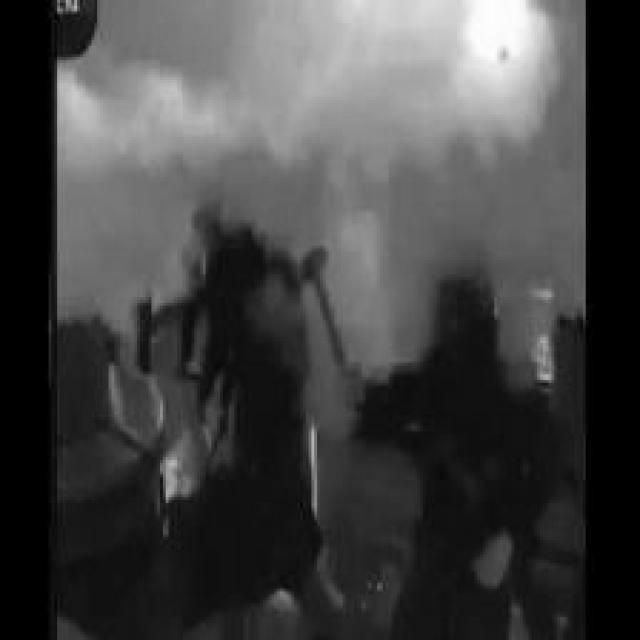fire: (55, 0, 584, 331)
